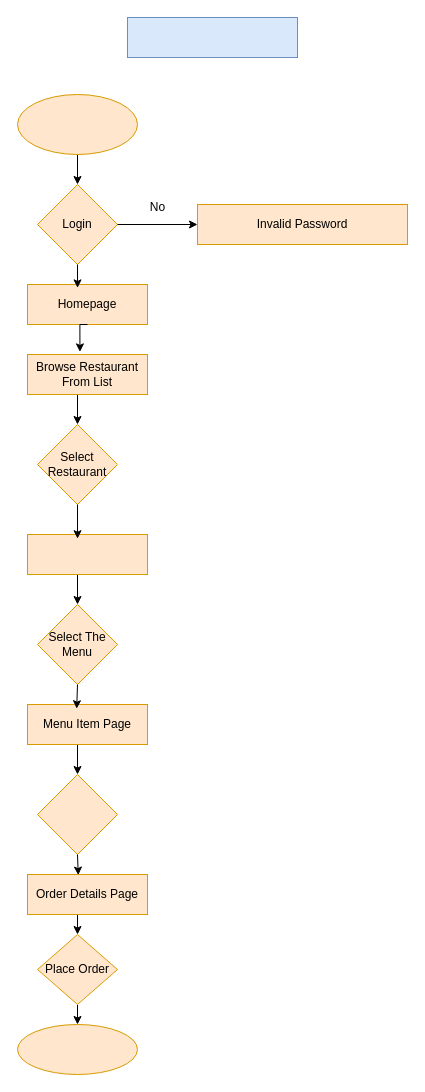
Some shapes in this 425 by 1092 pixel diagram are drawn without their labels. The shapes that lost their labels are listed below. From the top down, each one's centre as x and y in pixels, then its label:
the point at 212,37: Food Delivery App
the point at 77,124: Start
the point at 87,554: Restaurant Menu Page
the point at 77,814: Quantity Menu
the point at 77,1049: End
